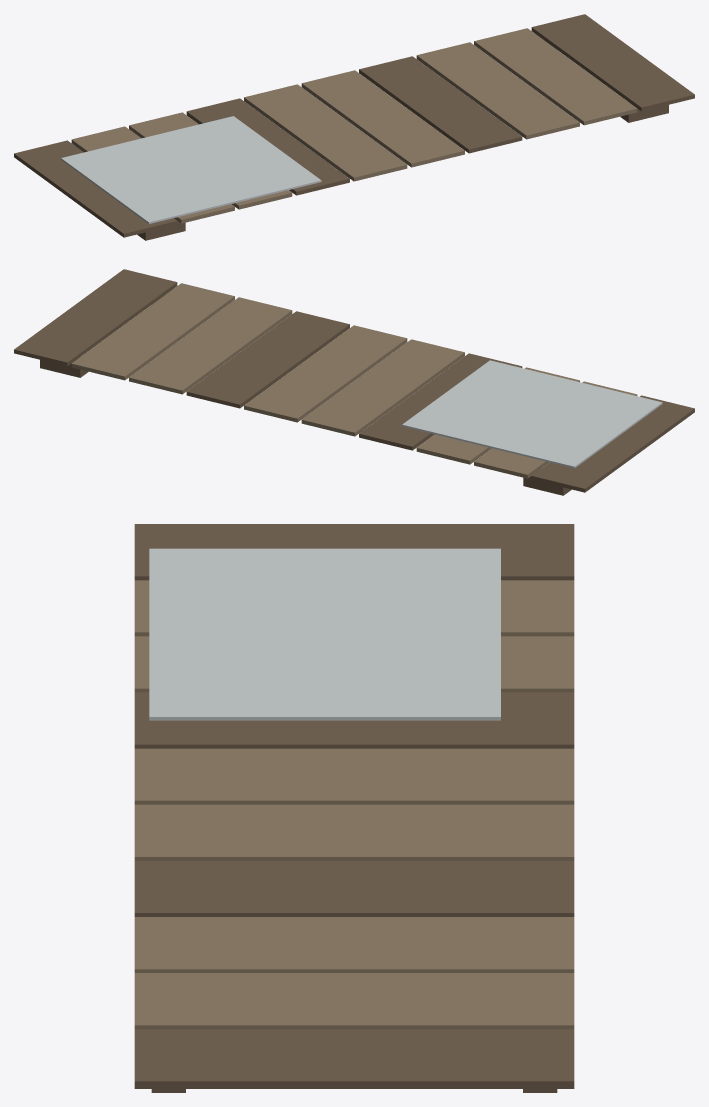
File: dock_platform.glb
3 views of the same model, one above another, from view 1: azimuth 30°, elevation 25°; view 2: azimuth 150°, elevation 25°; view 3: azimuth 270°, elevation 25° (orthographic). The views are drawn at different scales.
Visible parts, largest first — view 1: dock_platform; view 2: dock_platform; view 3: dock_platform.
Boxes of the visible parts, box(x1,y1,x2,y2) form: dock_platform: box(14, 14, 694, 240); dock_platform: box(14, 269, 694, 495); dock_platform: box(134, 524, 574, 1092).
Bounding box in the file's own units: 11.52 × 0.35 × 3.84.
